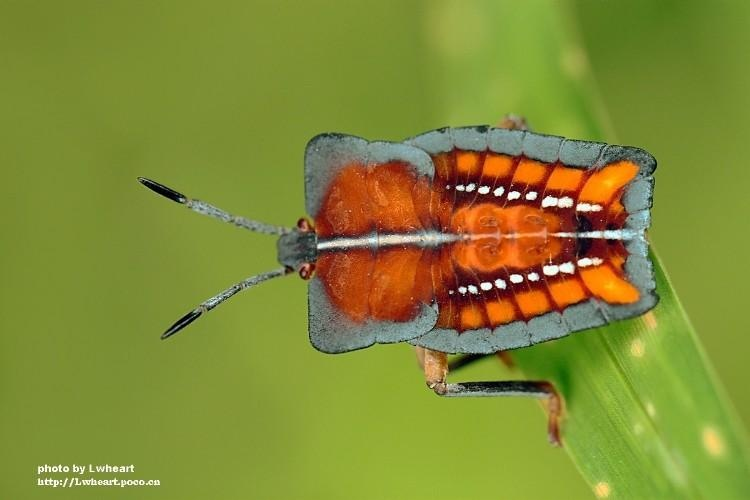Stink_Bug: (217, 120, 681, 362)
